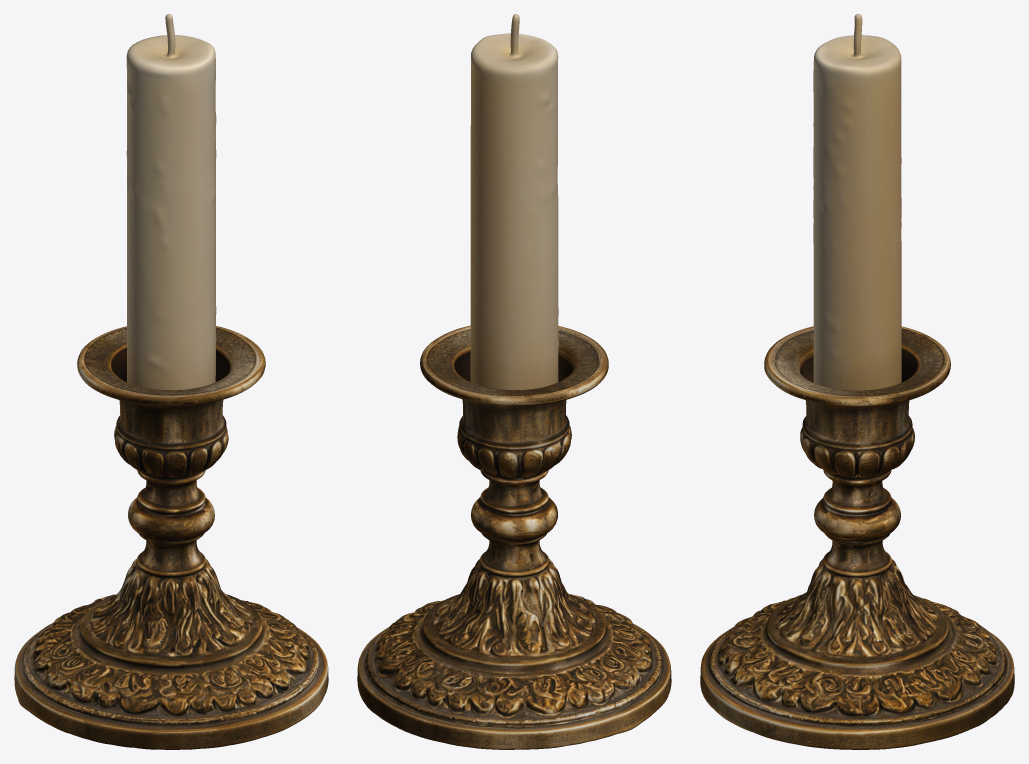
Rendered from candle-holder.glb.
The picture shows the model from 3 angles, left to right: view 1: azimuth 30°, elevation 25°; view 2: azimuth 150°, elevation 25°; view 3: azimuth 270°, elevation 25°; orthographic projection.
Visible parts, largest first — view 1: tripo_node_abc628ac; view 2: tripo_node_abc628ac; view 3: tripo_node_abc628ac.
Part boxes in pixels (<box>): tripo_node_abc628ac: <box>14,14,328,749</box>; tripo_node_abc628ac: <box>357,14,671,749</box>; tripo_node_abc628ac: <box>700,14,1014,749</box>.
Size of the model in its own units: 0.4155 by 0.9796 by 0.4167.
1 material, 1 textured.
